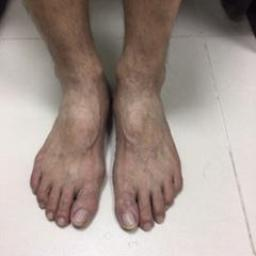Dorsal View -Both Feet-: (22, 47, 189, 236)
